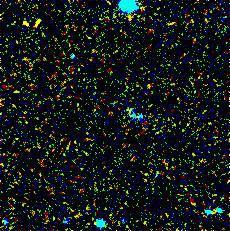star: (17, 7, 47, 37)
